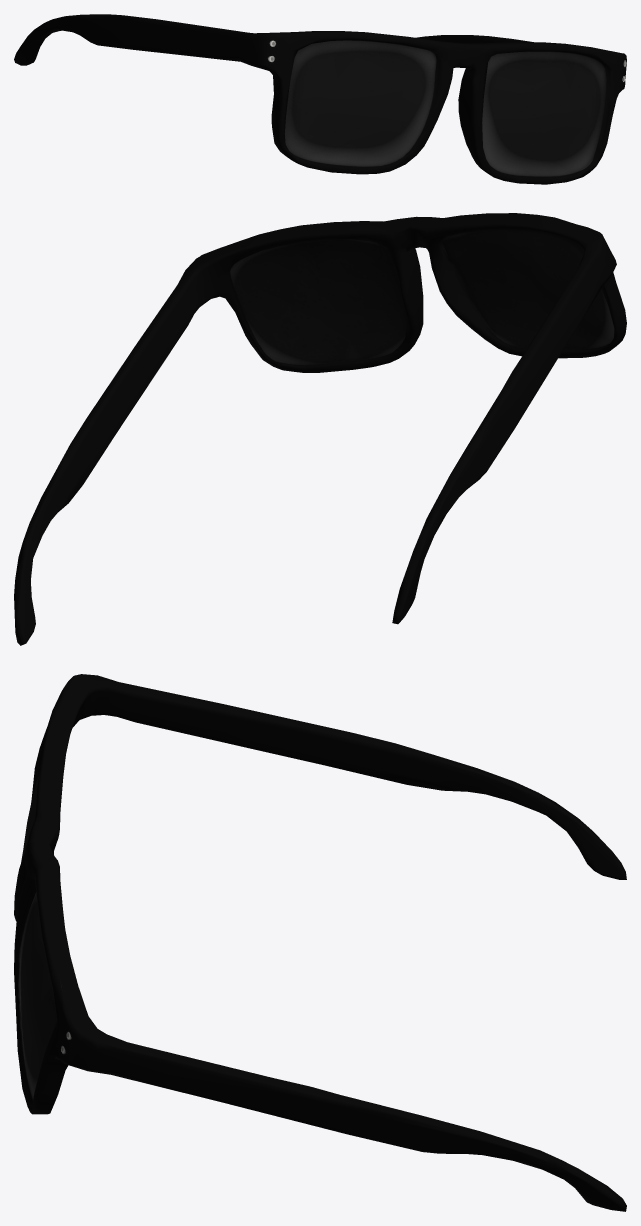
3 views of the same model, one above another, from view 1: azimuth 30°, elevation 25°; view 2: azimuth 150°, elevation 25°; view 3: azimuth 270°, elevation 25° (orthographic). The views are drawn at different scales.
Parts seen in each view (by area): view 1: Glasses_Low; view 2: Glasses_Low; view 3: Glasses_Low.
Boxes of the visible parts, x1,y1,x2,y2 form: Glasses_Low: (14, 14, 626, 184); Glasses_Low: (14, 213, 626, 645); Glasses_Low: (14, 674, 626, 1211).
Size of the model in its own units: 0.8275 by 0.5541 by 0.8708.
1 material, 1 textured.
